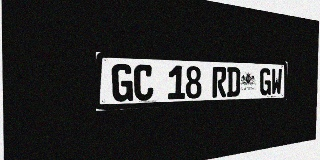1: (168, 65, 185, 100)
8: (186, 66, 202, 99)
C: (134, 64, 153, 101)
D: (227, 67, 240, 97)
G: (112, 64, 133, 102), (260, 68, 271, 96)
R: (212, 67, 227, 98)
W: (271, 68, 282, 95)
